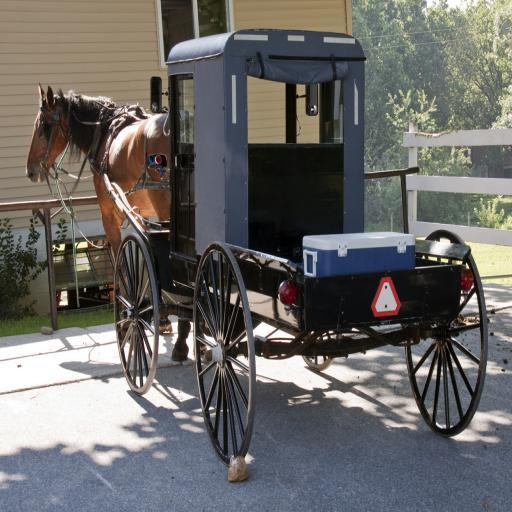horse: (23, 80, 208, 358)
